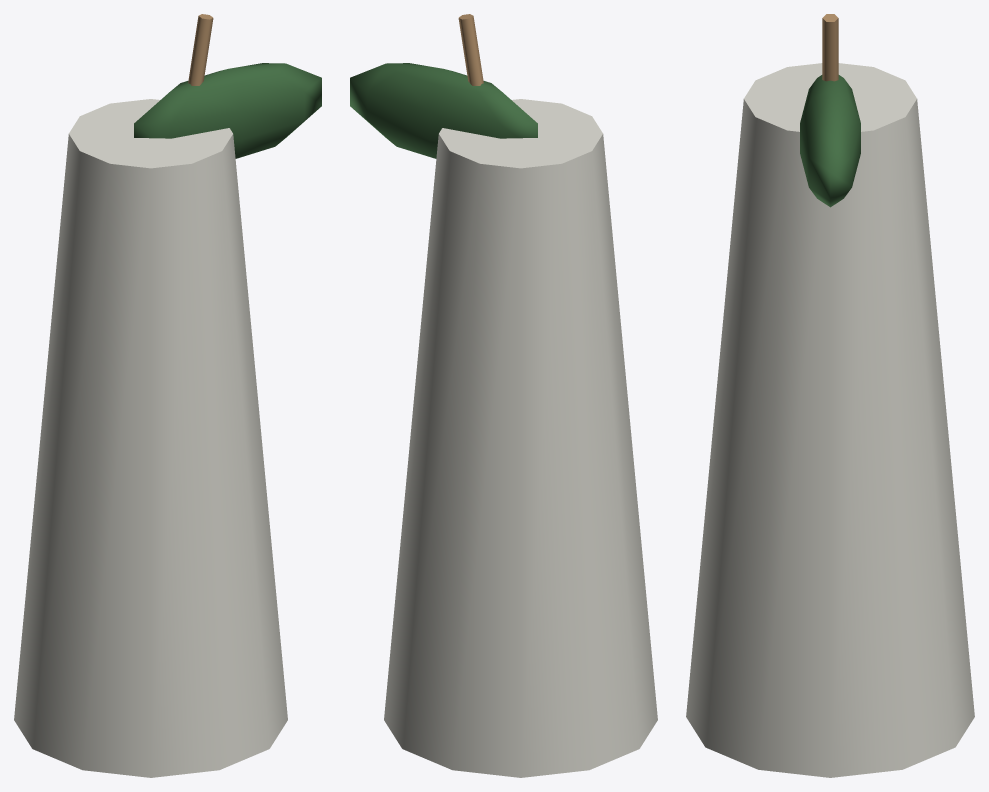
The model's file is accessory-3.glb.
3 renders of one model, left to right at view 1: azimuth 30°, elevation 25°; view 2: azimuth 150°, elevation 25°; view 3: azimuth 270°, elevation 25°, orthographic. The views are drawn at different scales.
Parts seen in each view (by area): view 1: accessory:3:editor; view 2: accessory:3:editor; view 3: accessory:3:editor.
Part boxes in pixels (x1,y1,x2,y2): accessory:3:editor: [14, 14, 321, 777]; accessory:3:editor: [350, 14, 657, 777]; accessory:3:editor: [686, 14, 974, 777].
Bounding box in the file's own units: 0.1318 × 0.3004 × 0.108.
